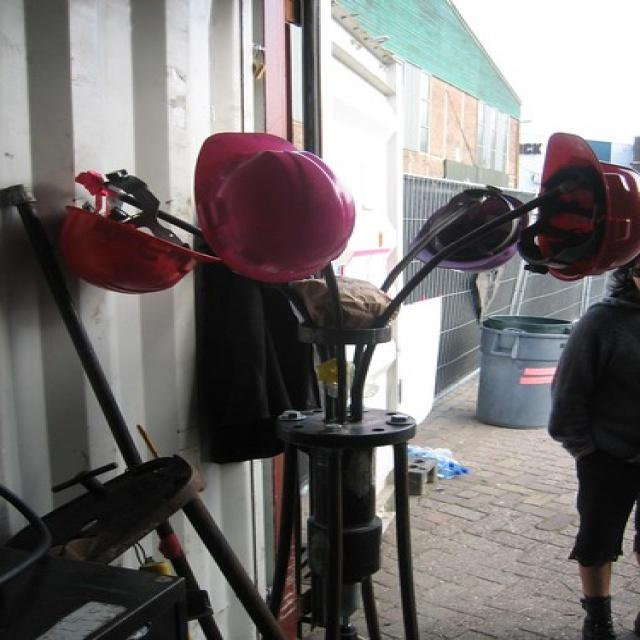helmet: (185, 160, 357, 373), (55, 266, 219, 398), (536, 162, 638, 374), (410, 249, 531, 364)
